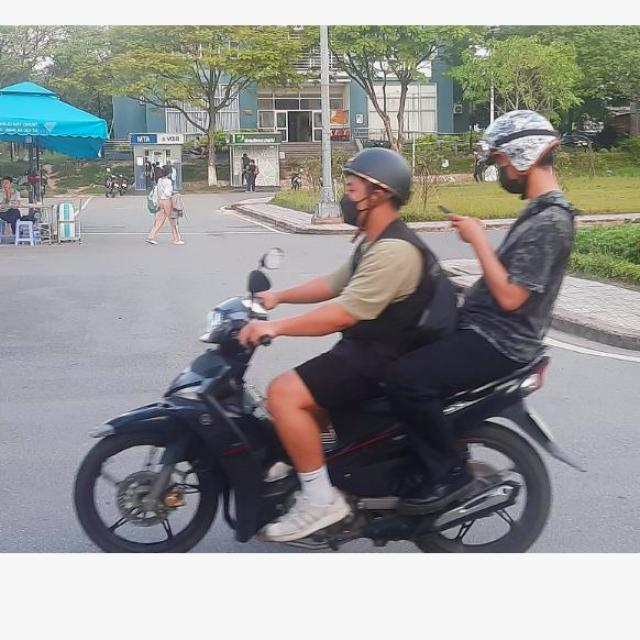Helmet: (480, 111, 562, 195), (336, 145, 414, 229)
